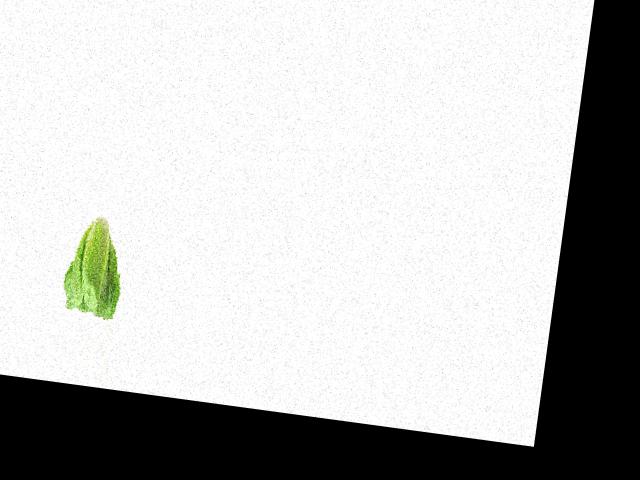lettuce: (56, 211, 134, 322)
